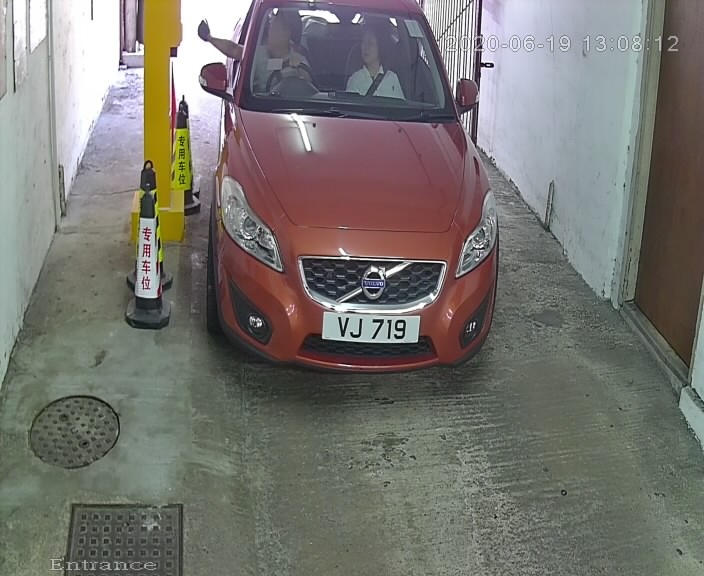privatecar: (198, 3, 509, 377)
